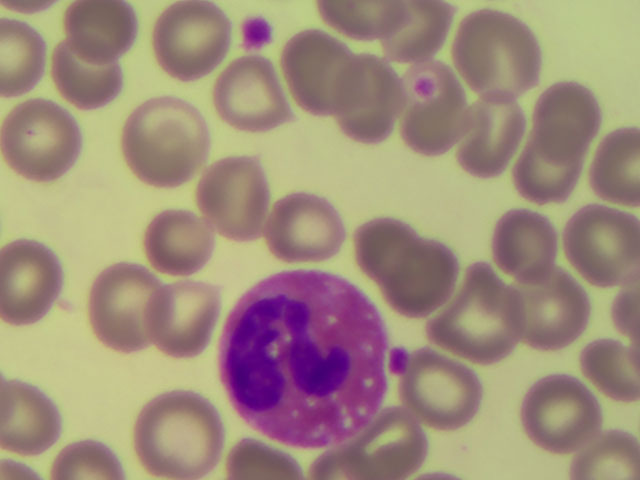Platelets: (239, 11, 273, 52)
RBC: (125, 97, 209, 180), (196, 149, 280, 232), (135, 198, 219, 281), (78, 262, 162, 345), (155, 278, 239, 361), (136, 396, 220, 479), (398, 348, 482, 431), (351, 397, 435, 480), (440, 272, 524, 355), (379, 243, 463, 326), (347, 208, 431, 291), (262, 181, 346, 264), (210, 52, 294, 135), (152, 2, 236, 85), (279, 22, 363, 105), (321, 59, 405, 142), (388, 64, 472, 147), (451, 11, 535, 94), (379, 1, 463, 84), (453, 96, 537, 179), (525, 65, 609, 148), (507, 131, 591, 214), (556, 204, 640, 287), (480, 201, 564, 284), (517, 270, 601, 353), (521, 363, 605, 446), (556, 326, 640, 409), (1, 243, 84, 326), (1, 377, 84, 460), (53, 42, 126, 111), (4, 106, 77, 175), (65, 1, 138, 69)
WBC: (220, 270, 394, 443)
